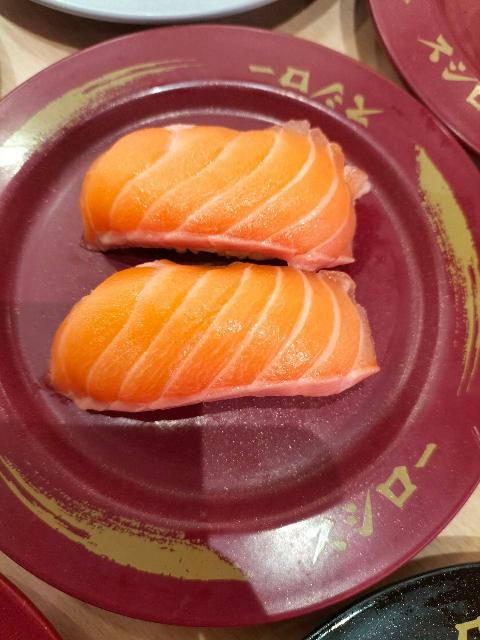janback: (310, 594, 480, 640)
janred: (0, 77, 480, 509), (377, 0, 480, 124), (0, 579, 81, 640)
janwhite: (41, 0, 281, 31)
